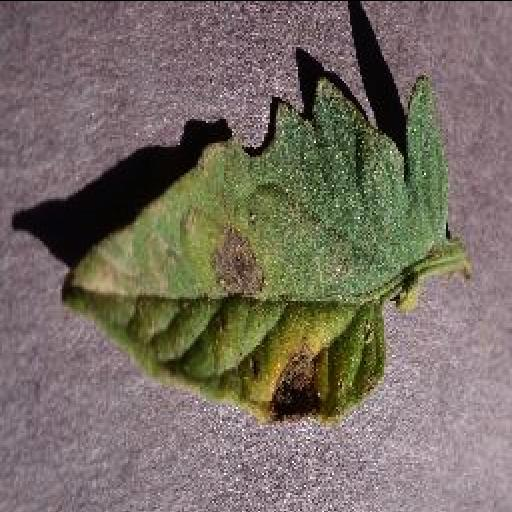disease_tomato: (58, 78, 456, 424)
